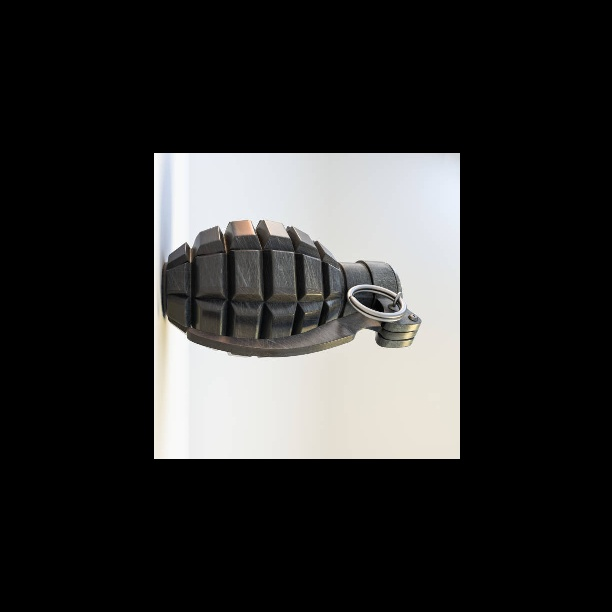e1: (162, 213, 419, 365)
